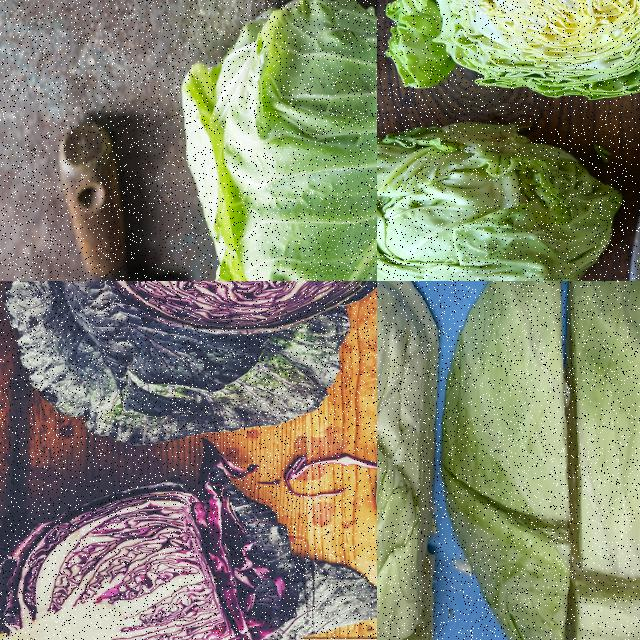cabbage: (442, 281, 639, 639), (178, 0, 376, 280), (0, 480, 325, 639), (377, 119, 628, 280), (381, 0, 639, 102), (377, 281, 441, 639), (58, 281, 376, 336)
